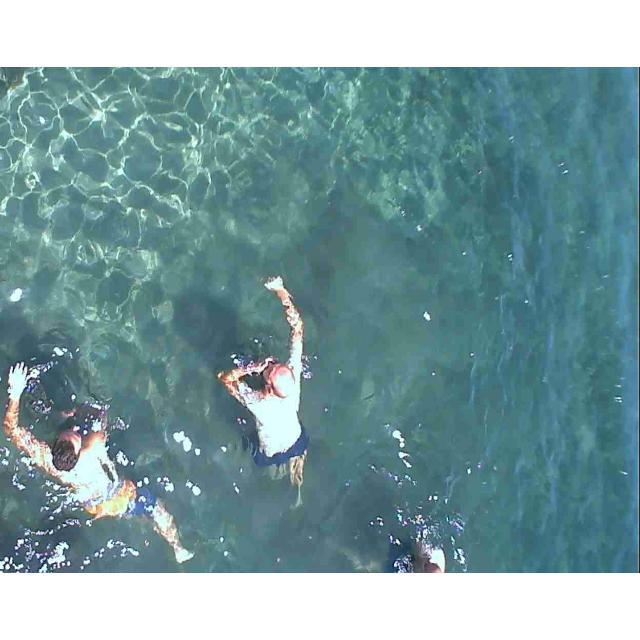human: (11, 357, 183, 570), (219, 263, 306, 521)
